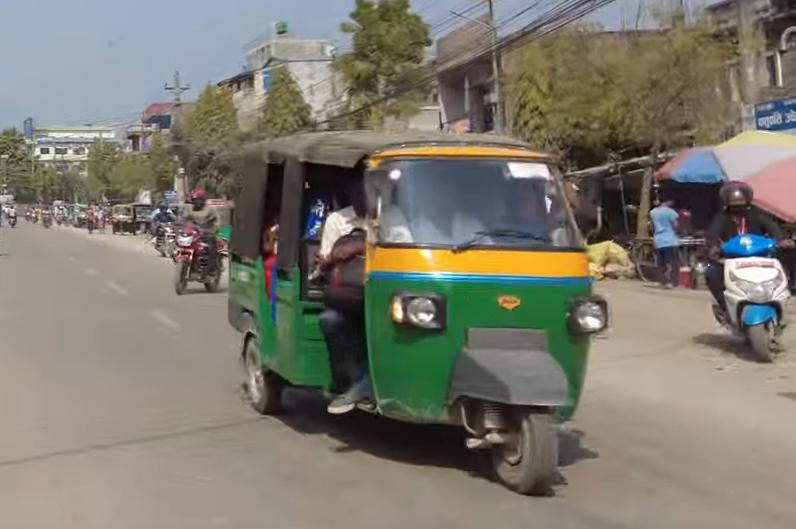auto_rickshaw: (220, 123, 608, 512)
